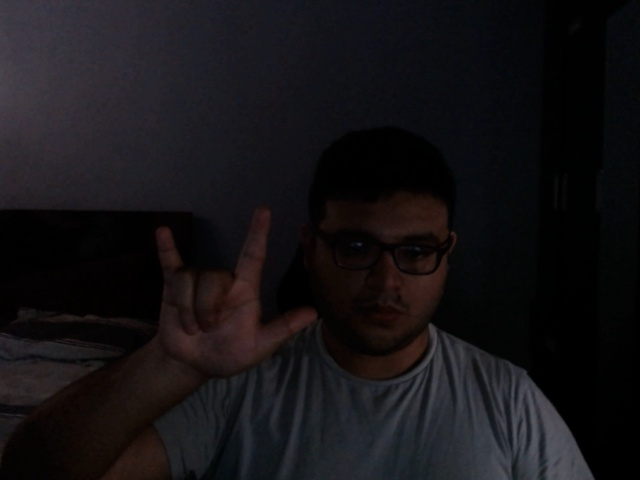I love you: (148, 205, 320, 384)
